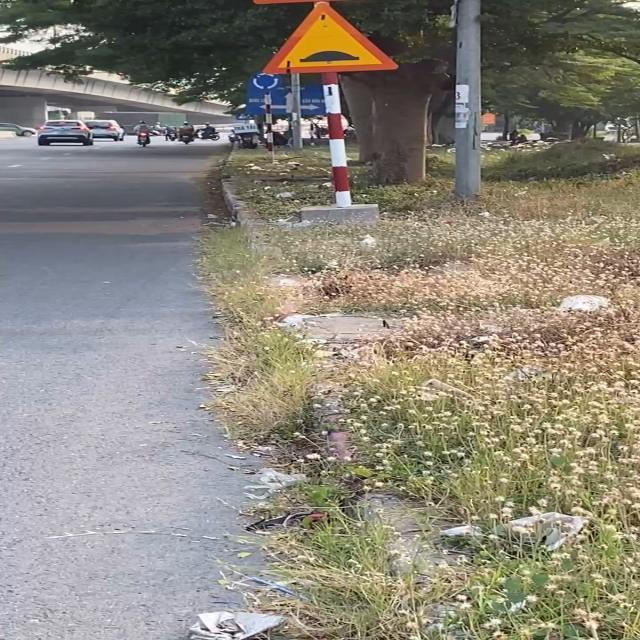221-duong-go-ghe: (261, 4, 398, 75)
303-noi-giao-nhau-chay-theo-vong-xuyen: (252, 72, 280, 90)
